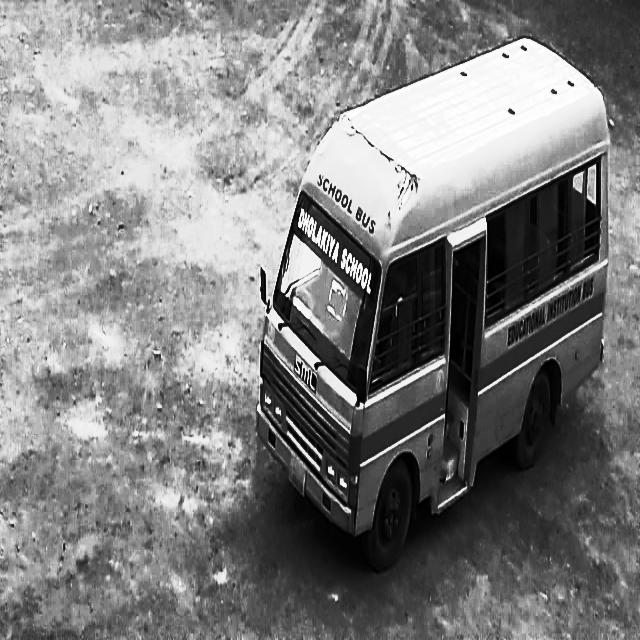Bus: (253, 31, 616, 583)
